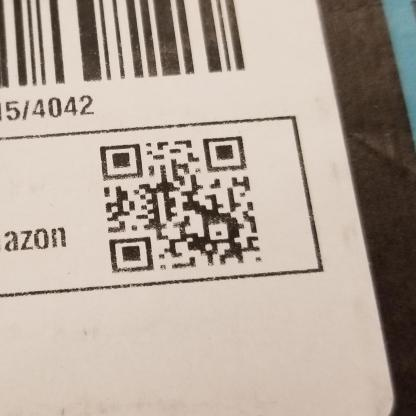barcode: (1, 1, 251, 82)
qr: (95, 135, 265, 274)
